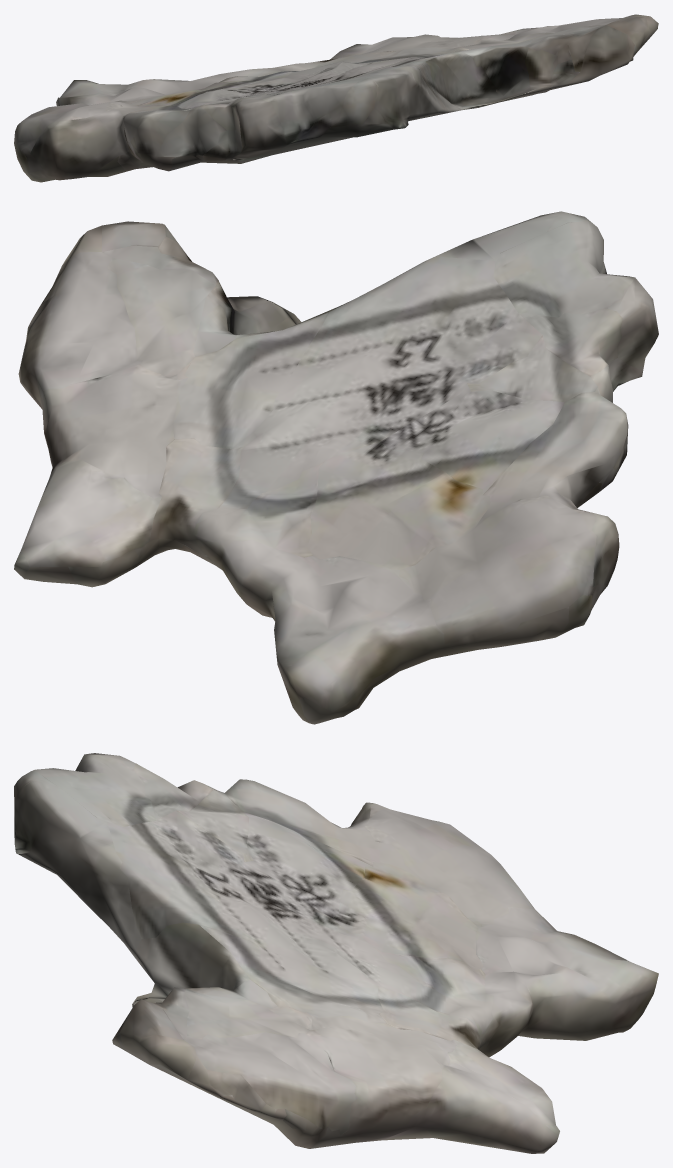
The model's file is hall.glb.
3 renders of one model, top to bottom at view 1: azimuth 30°, elevation 25°; view 2: azimuth 150°, elevation 25°; view 3: azimuth 270°, elevation 25°, orthographic. The views are drawn at different scales.
Bounding box in the file's own units: 0.5185 × 0.2159 × 0.4533.
Materials: 1 (1 with a texture image).
